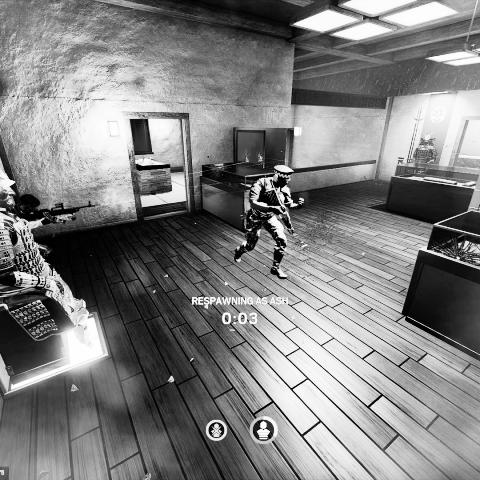Character: (233, 163, 306, 280), (17, 192, 98, 262)
Head: (272, 165, 294, 189), (20, 192, 40, 215)
